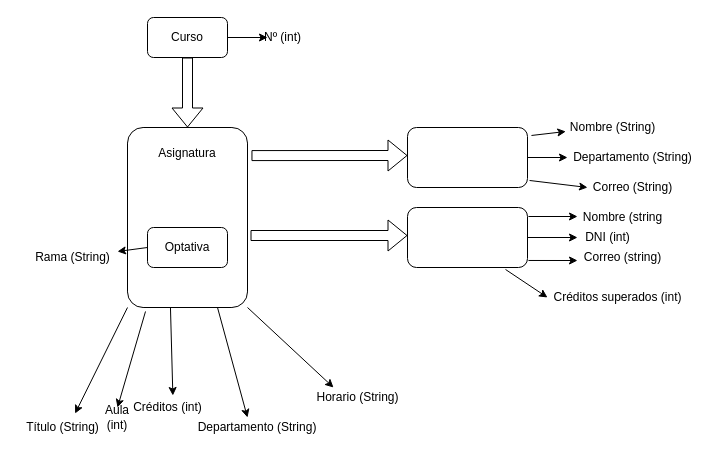
This 714x455 diagram has some shape labels left out. The centre of each missing label's shape, as x and y in pixels:
Alumno matriculado: pixel 467 237
Profesor: pixel 467 157
